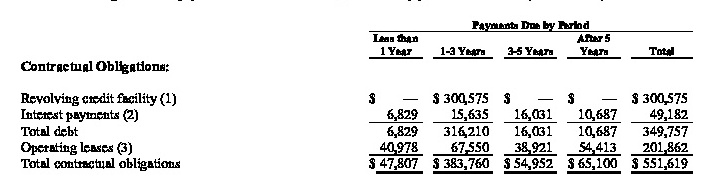table: (0, 0, 710, 190)
